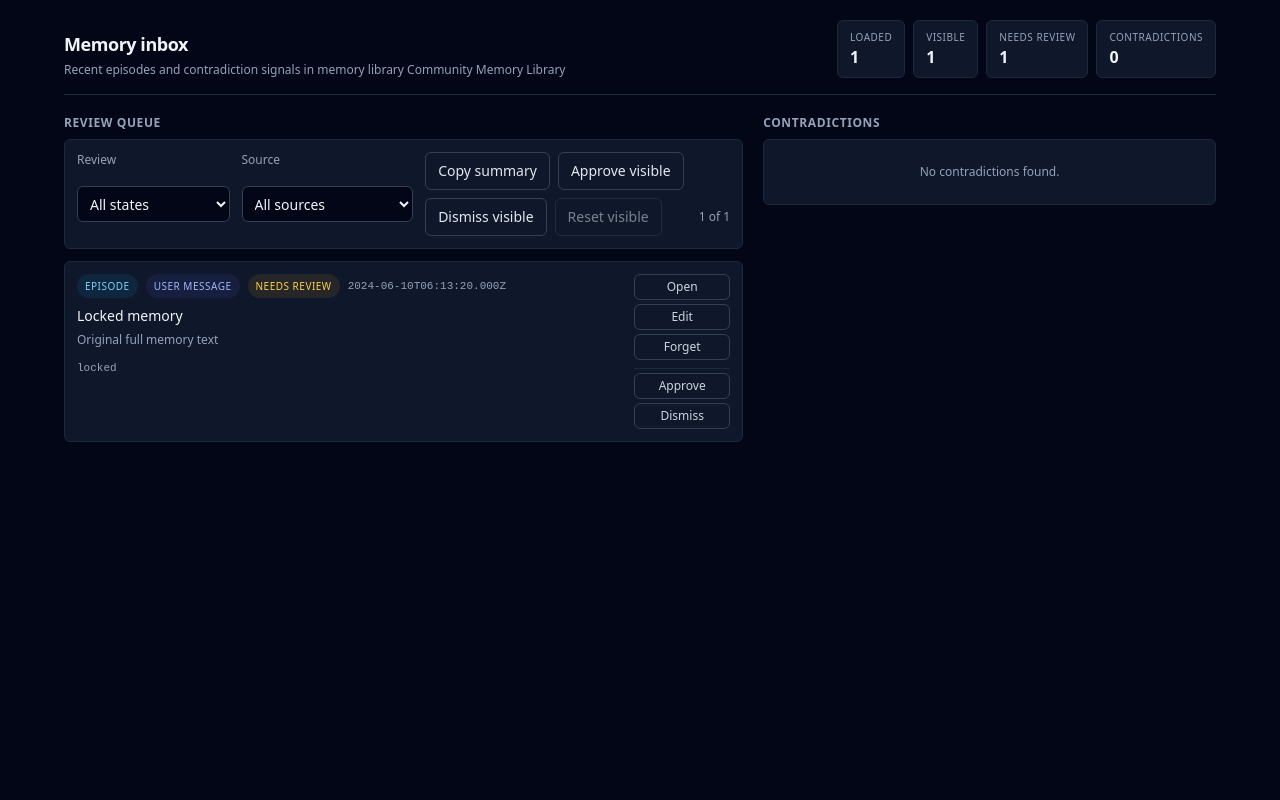
Test: InboxView › shows an alert and leaves editing open when saving an edit fails
The image size is (1280, 800).
Click the button with aria-label "edit locked memory": (682, 317) [634,304,730,330]
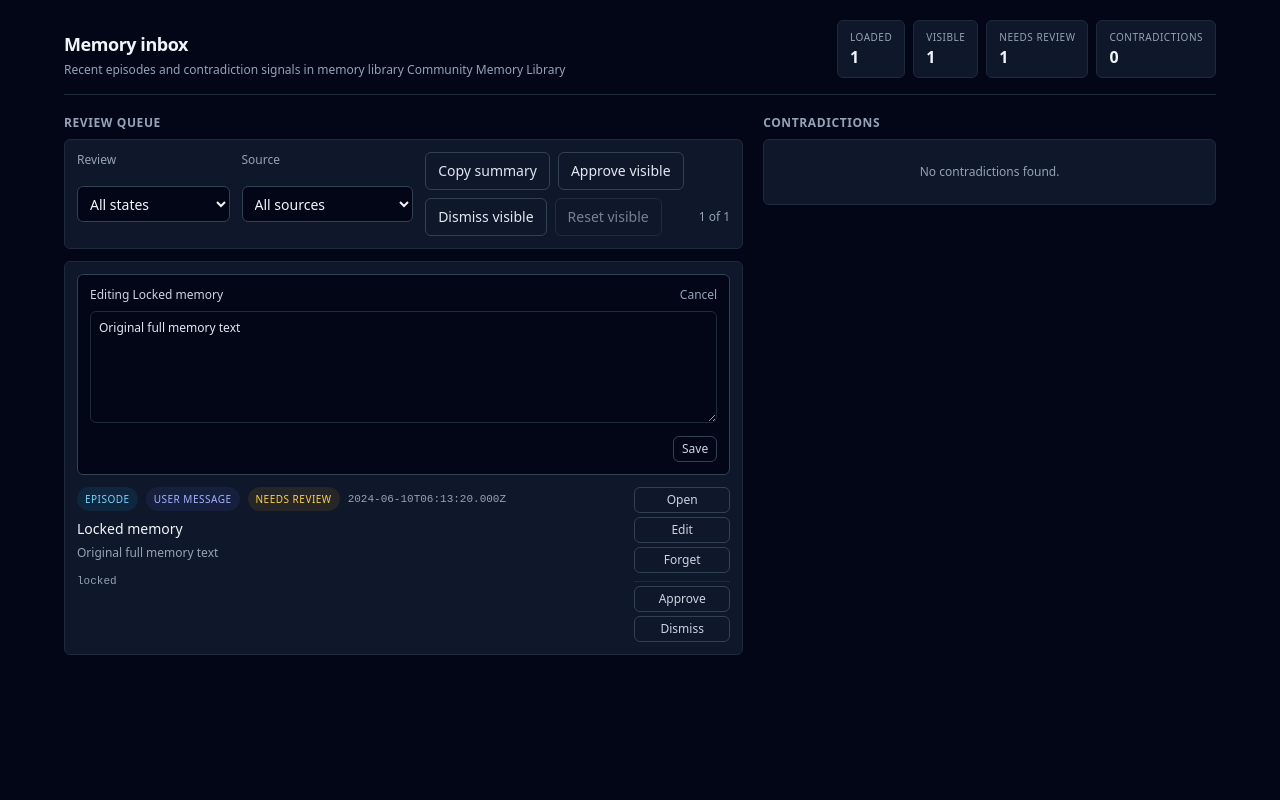
Replace the text in the text box named "edit text for locked memory" with "Updated but rejected": (404, 367) [90,311,717,423]
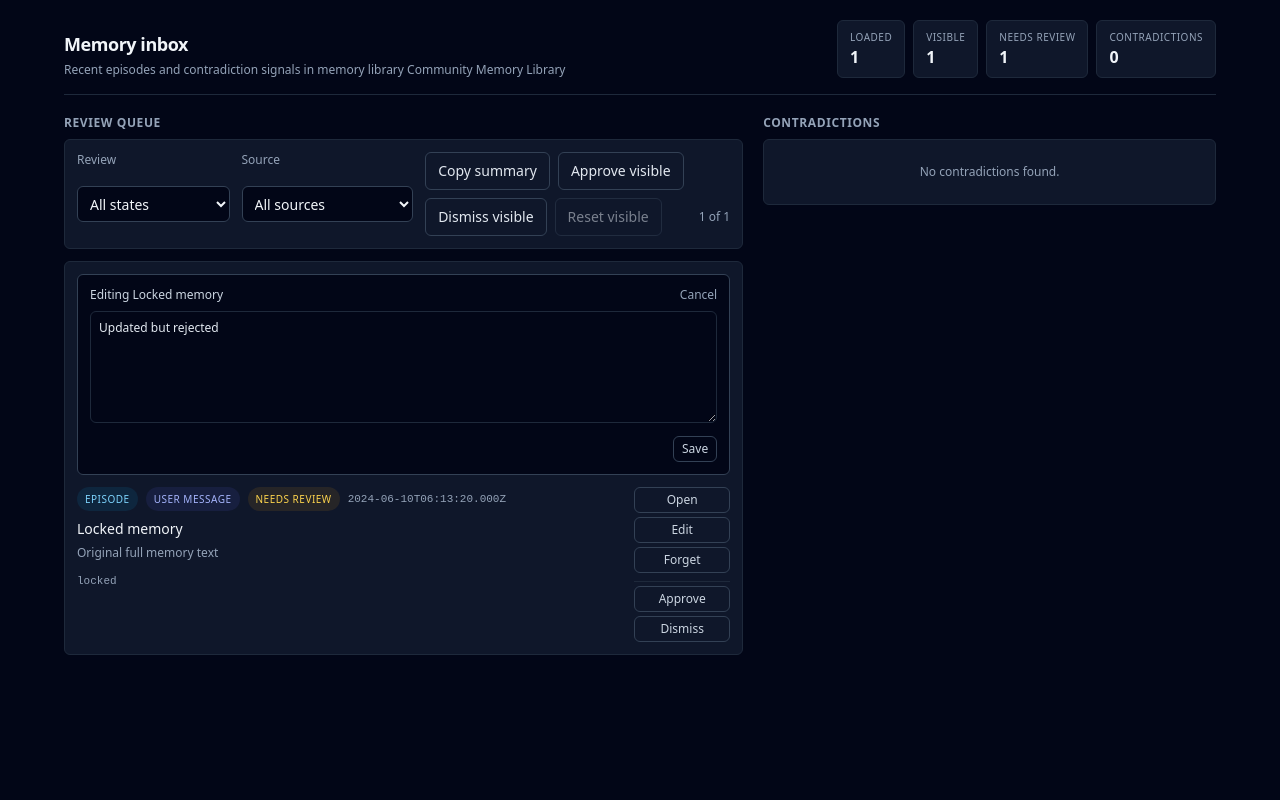
Click the button "Save": (695, 449) [673,436,717,462]
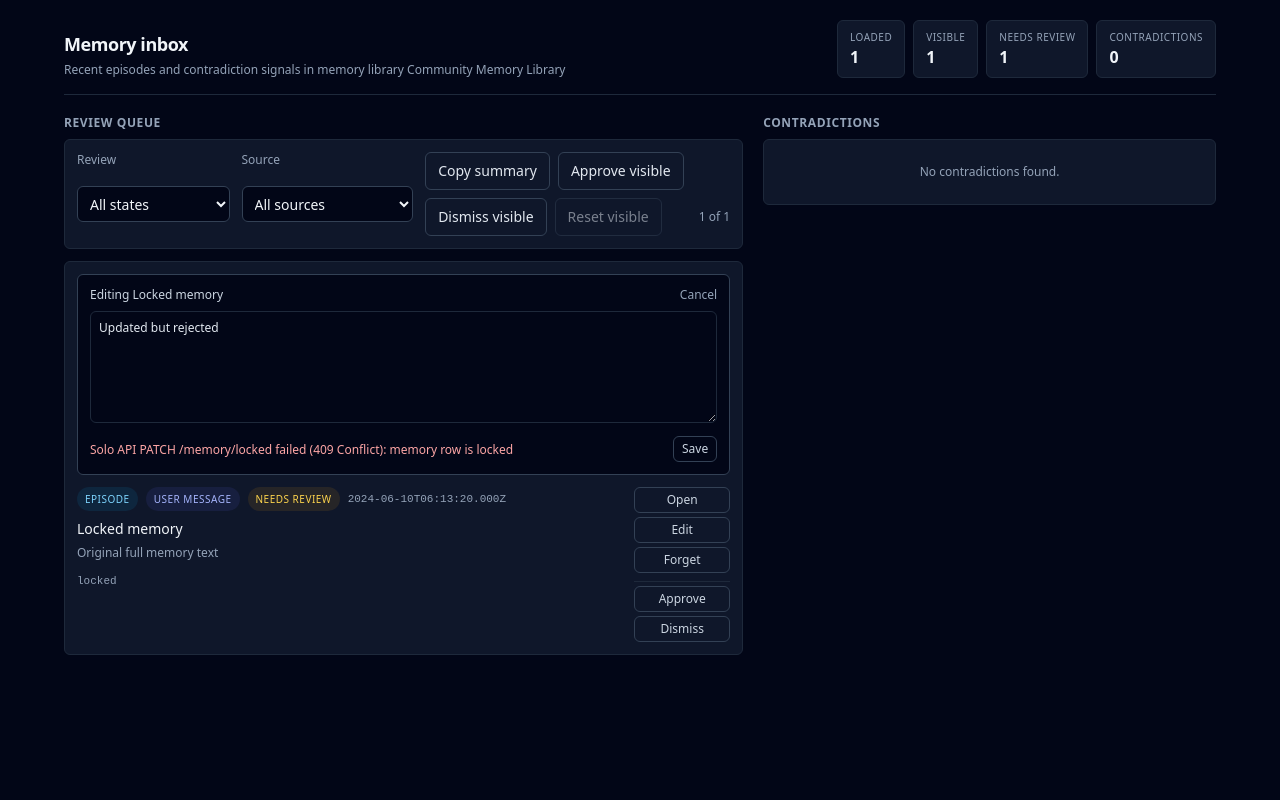
Expected: the button "Save" is enabled, [673,436,717,462]
Expected: the message shows "memory row is locked", [90,441,513,458]
